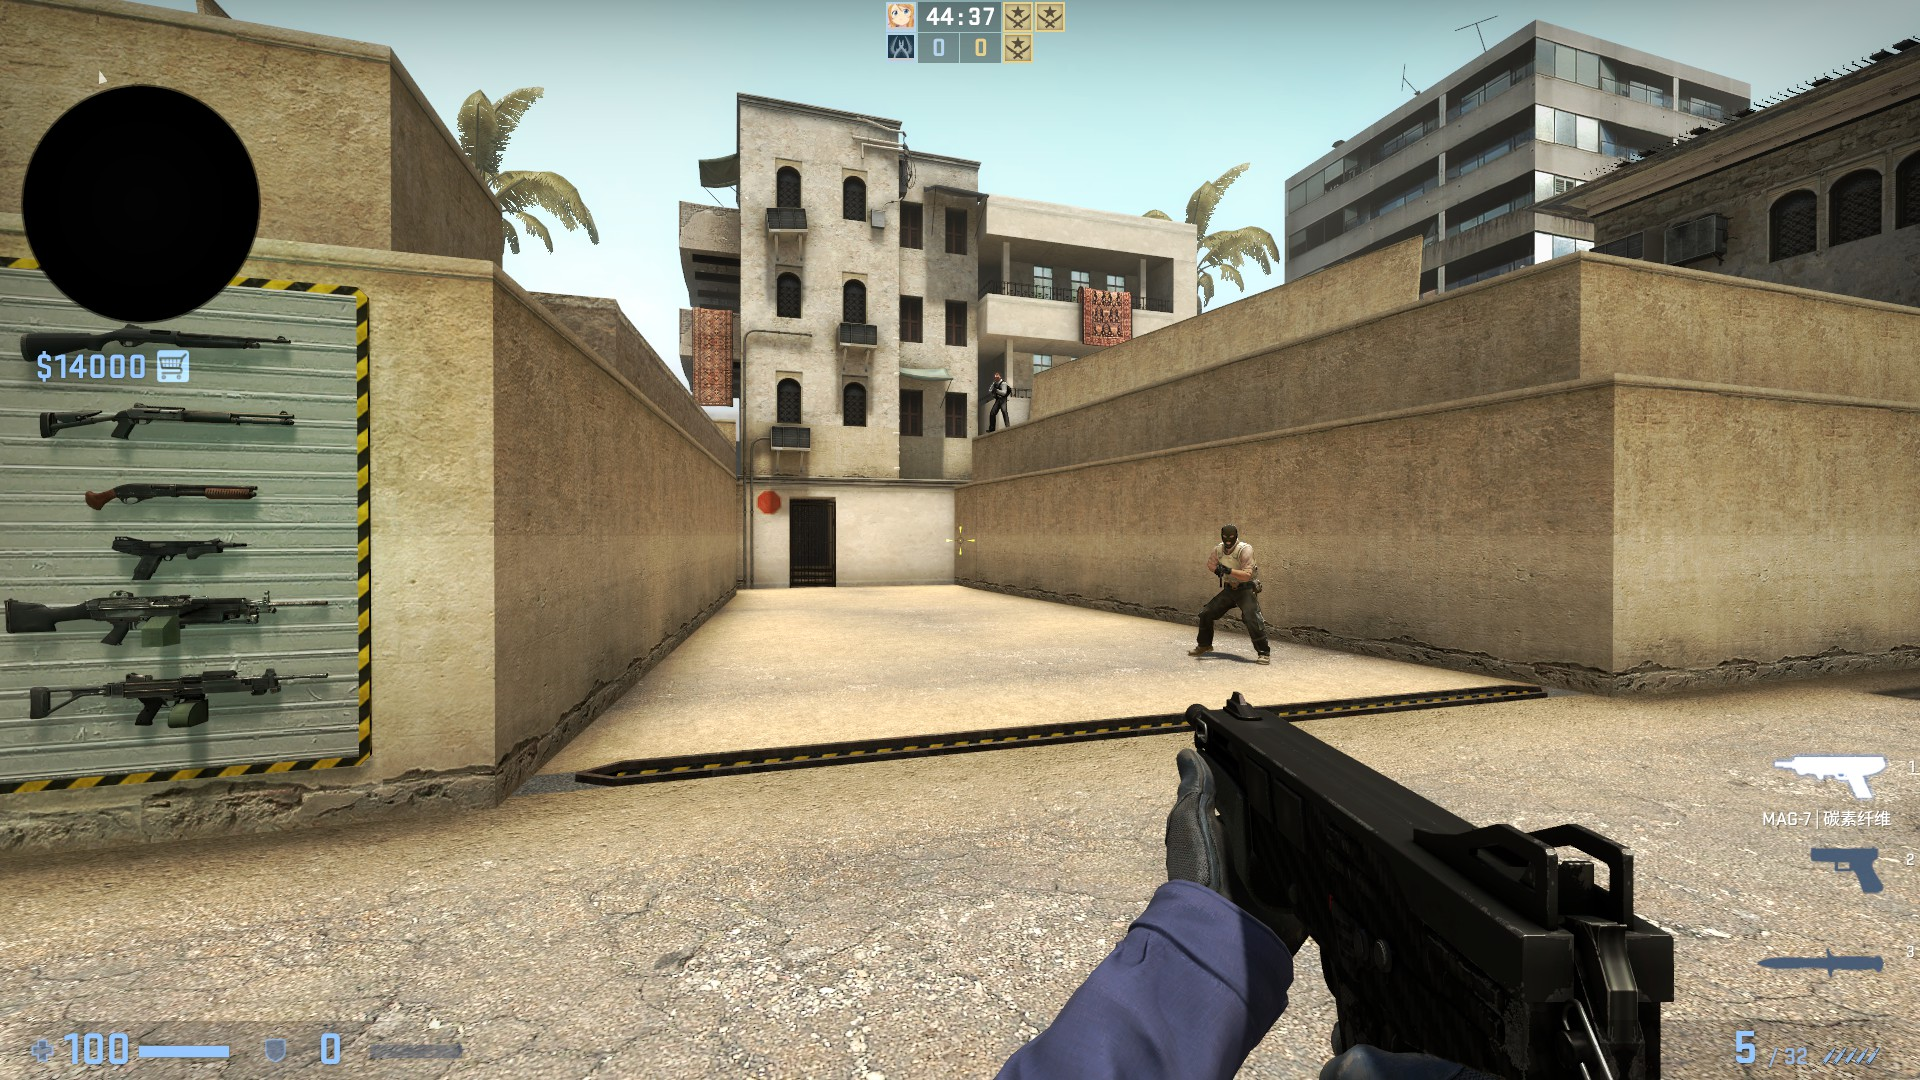head: (1218, 524, 1236, 547), (991, 372, 1000, 382)
